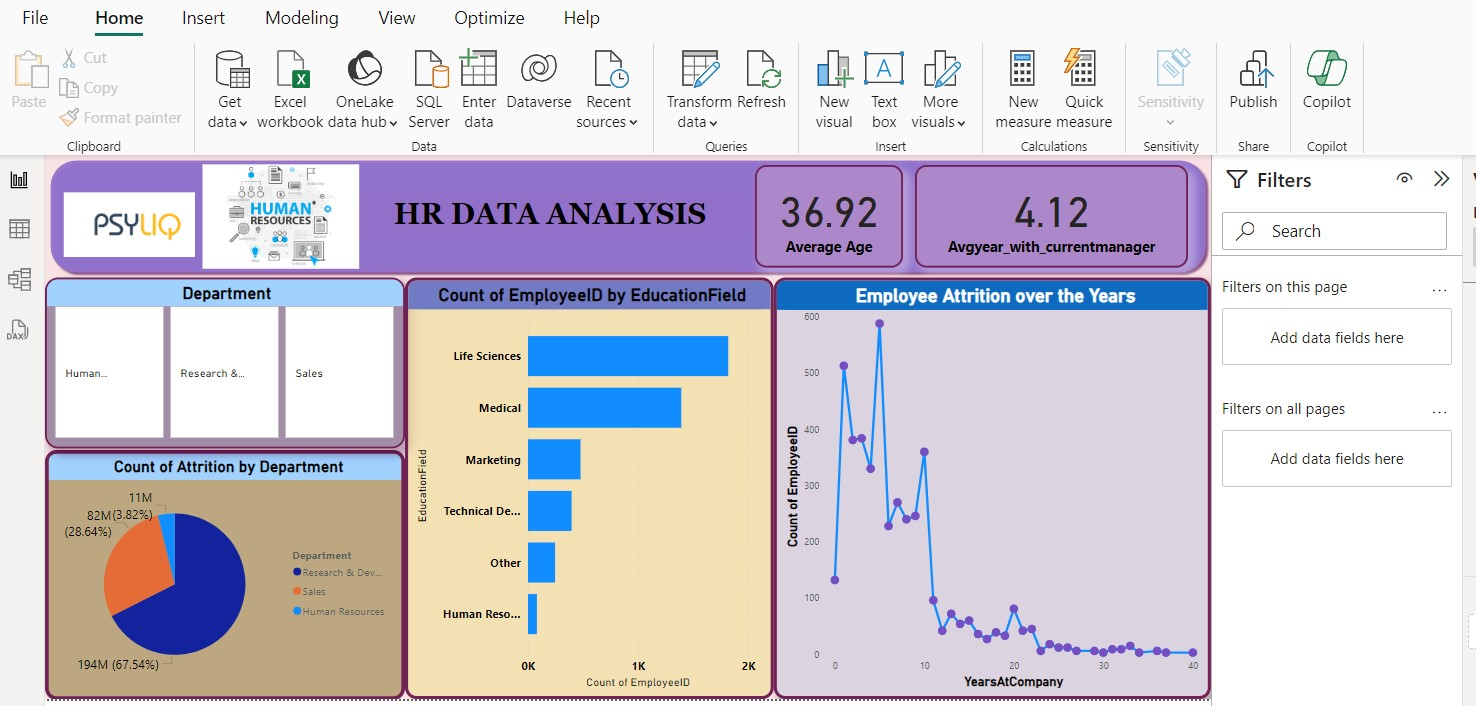

This screenshot's page, from the dashboard's own definition file:
{"tool":"powerbi","page":{"name":"HR Data Analysis","canvas":[1500,700],"ordinal":3},"visuals":[{"type":"shape","box":[0,0,1500.3,158.1],"z":0},{"type":"textbox","box":[395.2,50.4,508.3,58.6],"z":1000},{"type":"image","box":[19.1,0,178.5,178.5],"z":2000},{"type":"card","fields":{"Values":["general_data.Average Age"]},"box":[913,12.3,190.8,132.2],"z":3000},{"type":"card","fields":{"Values":["general_data.Avgyear_with_currentmanager"]},"box":[1118.7,13.6,351.6,132.2],"z":4000},{"type":"image","box":[197.6,0,211.2,158.1],"z":5000},{"type":"pieChart","title":"Count of Attrition by Department","fields":{"Category":["general_data.Department"],"Y":["Sum(general_data.MonthlyIncome)"]},"box":[0,378.8,463.3,321.6],"z":6000},{"type":"lineChart","title":"Employee Attrition over the Years","fields":{"Category":["general_data.YearsAtCompany"],"Y":["CountNonNull(general_data.EmployeeID)"]},"box":[937.5,158.1,562.8,542.3],"z":7000},{"type":"advancedSlicerVisual","fields":{"Values":["general_data.Department"]},"box":[0,157.6,463.1,220.3],"z":8000},{"type":"clusteredBarChart","fields":{"Y":["CountNonNull(general_data.EmployeeID)"],"Category":["general_data.EducationField"]},"box":[463.3,158.1,474.2,542.3],"z":9000}]}

Visuals, with their boxes on the page's 1500x700 design canvas (x1, y1, x2, y2). These are canvas units, not pixel positions in the 1476x706 screenshot, which may show the page scaled, cropped or inside an application window:
shape: select_region(0, 0, 1500, 158)
textbox: select_region(395, 50, 904, 109)
image: select_region(19, 0, 198, 178)
card - general_data.Average Age: select_region(913, 12, 1104, 144)
card - general_data.Avgyear_with_currentmanager: select_region(1119, 14, 1470, 146)
image: select_region(198, 0, 409, 158)
"Count of Attrition by Department" pieChart: select_region(0, 379, 463, 700)
"Employee Attrition over the Years" lineChart: select_region(938, 158, 1500, 700)
advancedSlicerVisual - general_data.Department: select_region(0, 158, 463, 378)
clusteredBarChart - CountNonNull(general_data.EmployeeID) x general_data.EducationField: select_region(463, 158, 938, 700)
